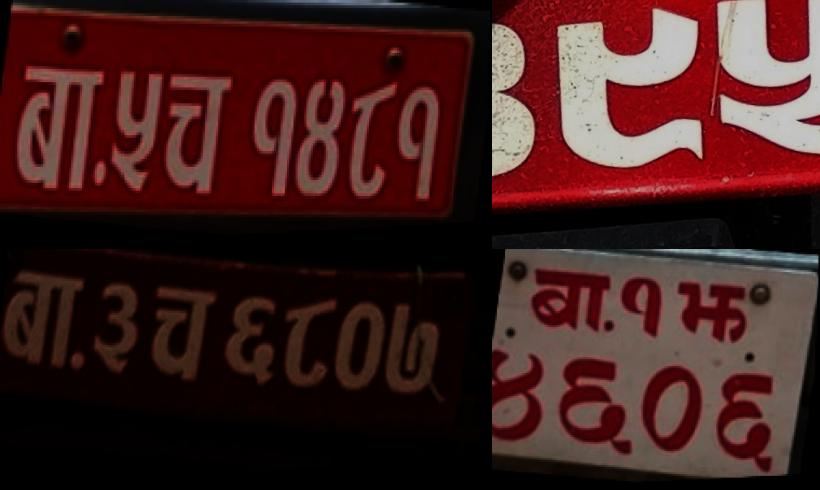0: (633, 353, 714, 468), (330, 292, 391, 415)
1: (384, 80, 452, 220), (239, 70, 304, 206), (611, 271, 671, 348)
3: (84, 267, 147, 392)
4: (492, 4, 562, 198), (288, 74, 354, 211), (492, 340, 554, 449)
5: (689, 0, 820, 179), (99, 60, 169, 204)
6: (544, 346, 647, 463), (701, 360, 790, 482), (218, 284, 286, 398)
7: (381, 301, 447, 418)
8: (338, 77, 401, 212), (276, 289, 341, 407)
9: (531, 0, 730, 188)
ba: (0, 45, 111, 206), (0, 252, 89, 384), (520, 260, 614, 342)
cha: (150, 62, 242, 207), (140, 273, 220, 399)
jha: (667, 274, 758, 354)
